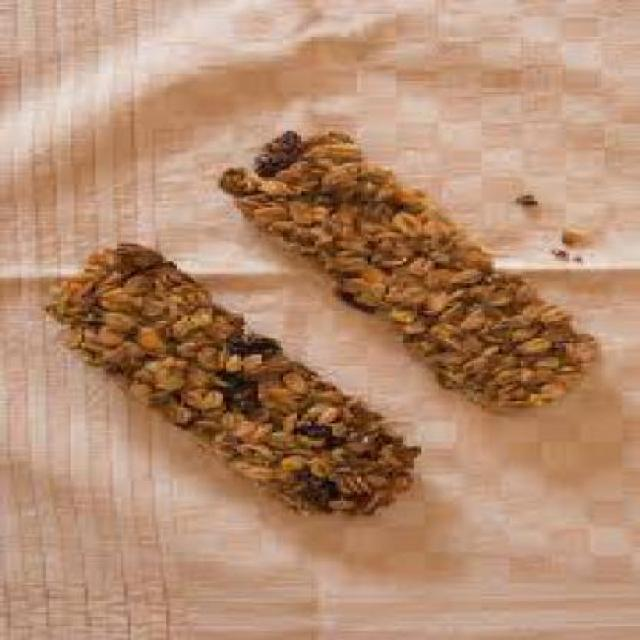Cereal bar packaged: (31, 250, 454, 530), (216, 130, 604, 412)
